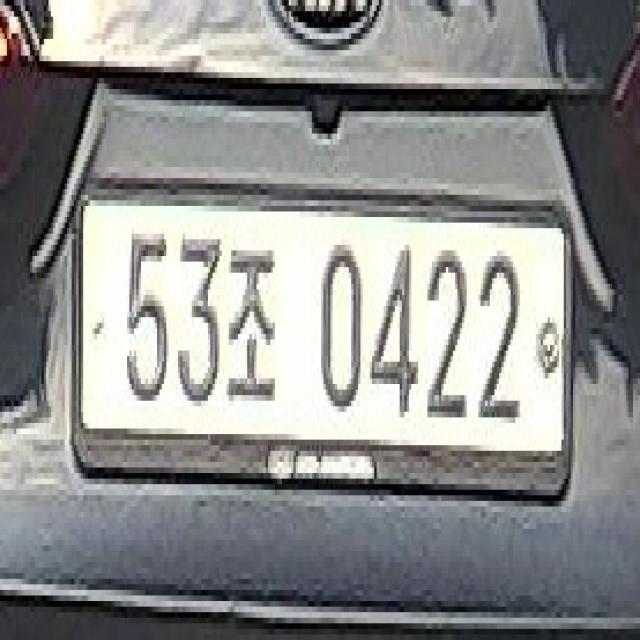0: (312, 223, 370, 434)
2: (476, 217, 529, 456), (418, 217, 469, 440)
3: (171, 217, 226, 434)
4: (370, 212, 420, 434)
5: (115, 228, 173, 401)
jo: (222, 228, 291, 418)
license_plate: (70, 178, 576, 507)
